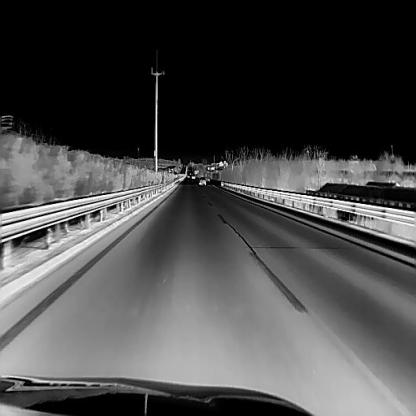car: (198, 176, 206, 184)
